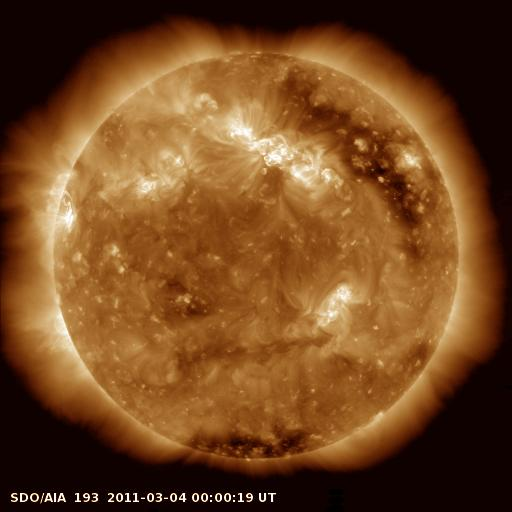coronal_hole: (251, 46, 433, 250), (179, 423, 323, 471)
